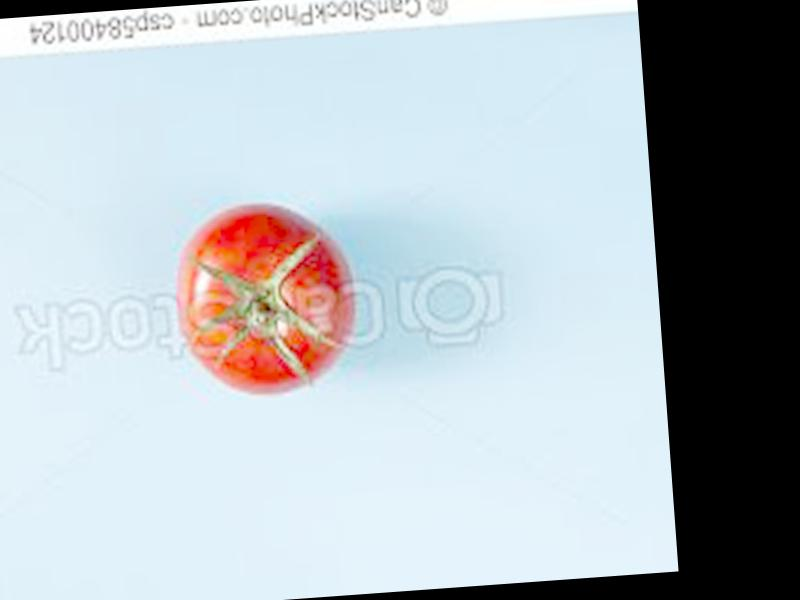Tomato: (172, 194, 357, 399)
